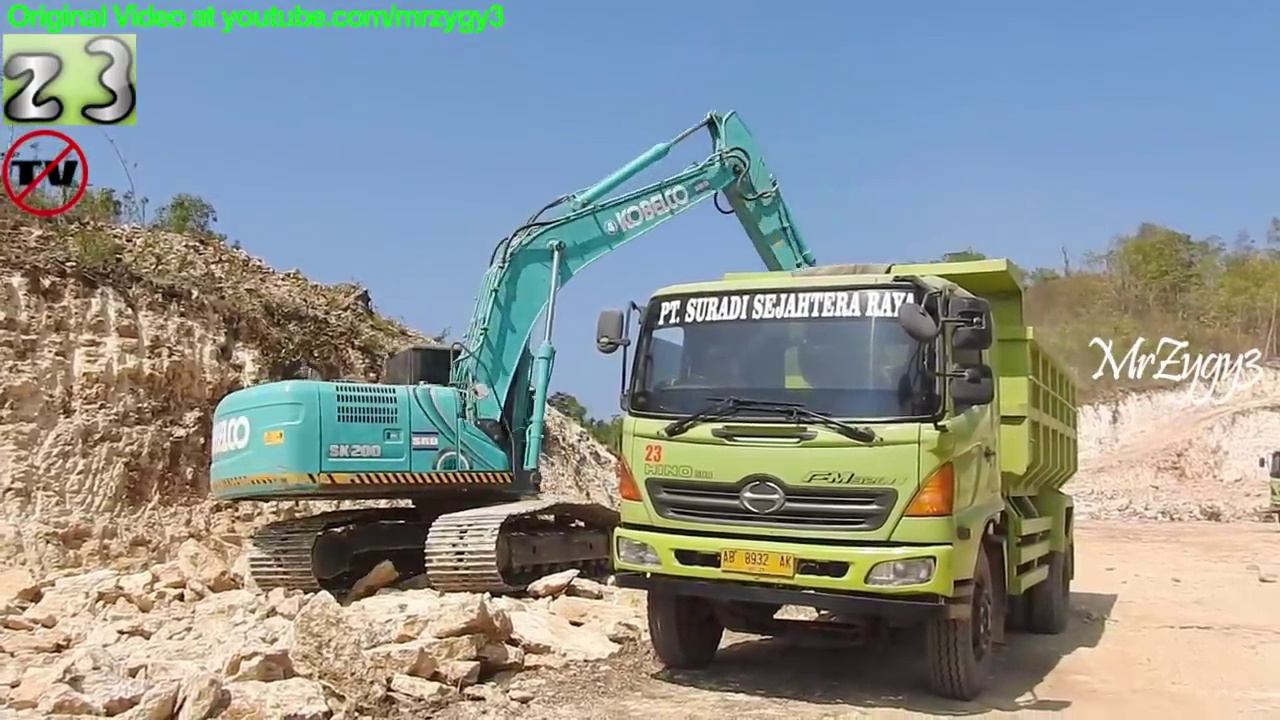excavator: (202, 102, 871, 607)
truck: (592, 252, 1086, 702)
